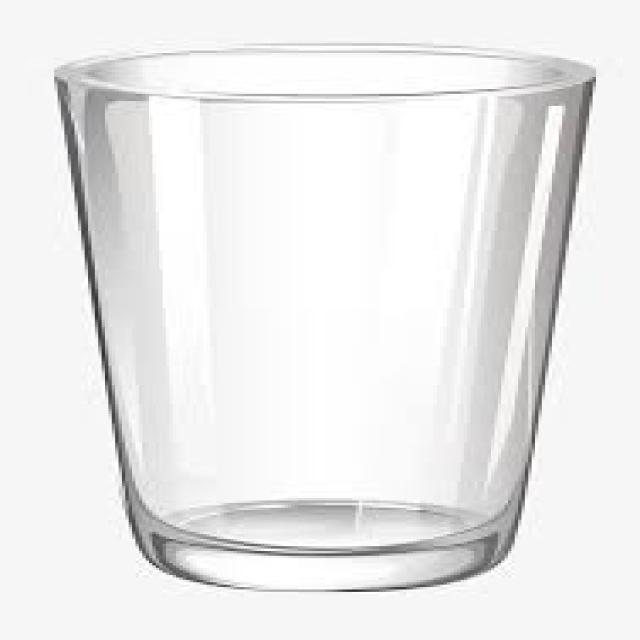Glass: (58, 35, 600, 592)
